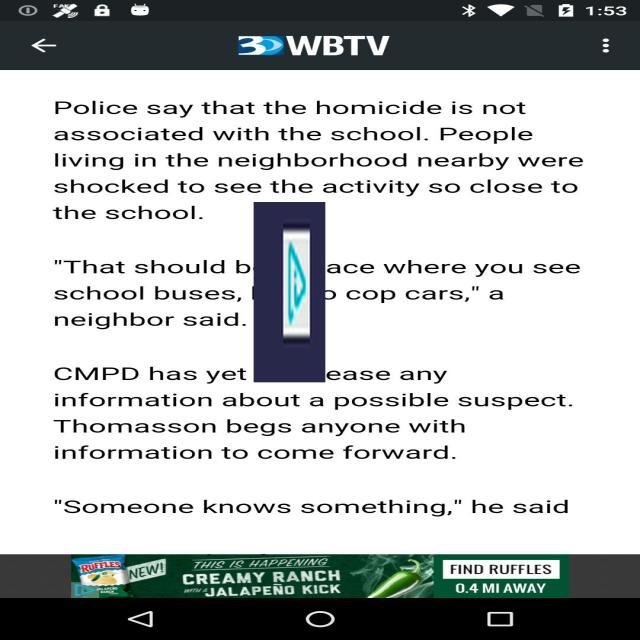sneaking: (254, 202, 325, 382)
